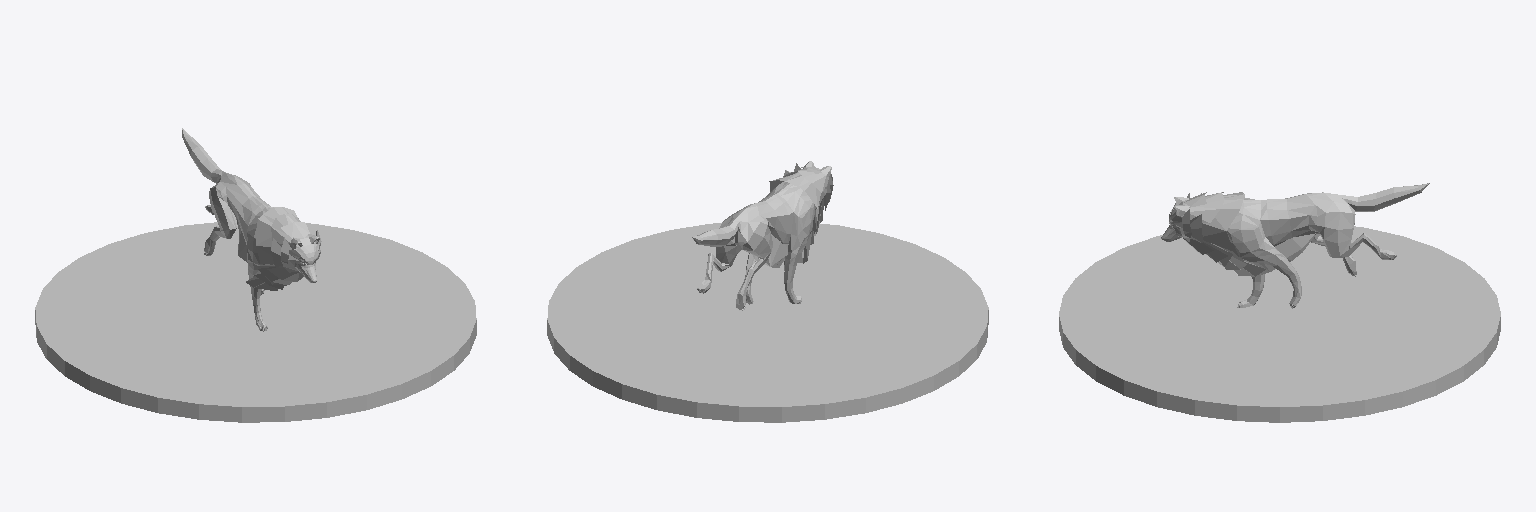
The model's file is Wolf_0003.obj.
The picture shows the model from 3 angles: view 1: azimuth 30°, elevation 25°; view 2: azimuth 150°, elevation 25°; view 3: azimuth 270°, elevation 25°; orthographic projection.
Visible parts, largest first — view 1: Circle, Wolf1_Material__wolf_col_tga_0, Wolf2_fur__fella3_jpg_001_0; view 2: Circle, Wolf1_Material__wolf_col_tga_0, Wolf2_fur__fella3_jpg_001_0; view 3: Circle, Wolf1_Material__wolf_col_tga_0, Wolf2_fur__fella3_jpg_001_0.
Boxes of the visible parts, x1=… form: Circle: x1=35, y1=222, x2=476, y2=422; Wolf1_Material__wolf_col_tga_0: x1=182, y1=128, x2=319, y2=330; Wolf2_fur__fella3_jpg_001_0: x1=238, y1=207, x2=321, y2=290; Circle: x1=547, y1=223, x2=988, y2=422; Wolf1_Material__wolf_col_tga_0: x1=692, y1=161, x2=831, y2=309; Wolf2_fur__fella3_jpg_001_0: x1=752, y1=163, x2=833, y2=267; Circle: x1=1059, y1=226, x2=1500, y2=422; Wolf1_Material__wolf_col_tga_0: x1=1161, y1=183, x2=1429, y2=307; Wolf2_fur__fella3_jpg_001_0: x1=1169, y1=192, x2=1315, y2=276.
Bounding box in the file's own units: 1.69 × 0.6193 × 1.69.